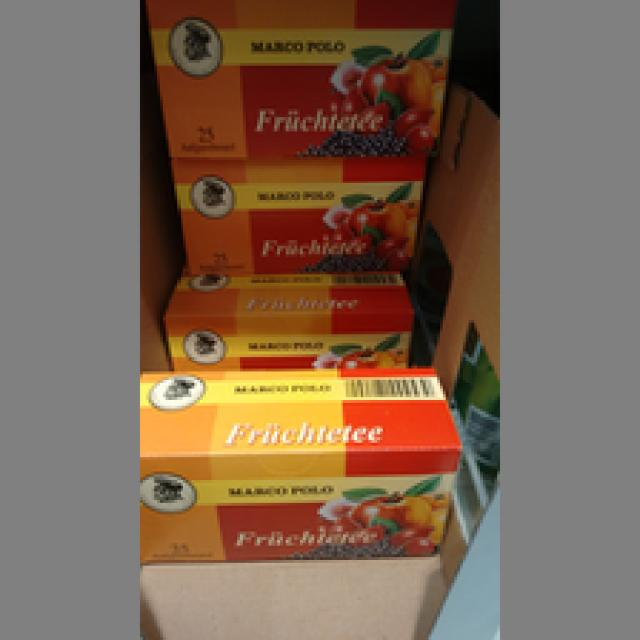groceries: (137, 368, 466, 563), (137, 0, 454, 154), (166, 154, 423, 272), (160, 268, 411, 368)
